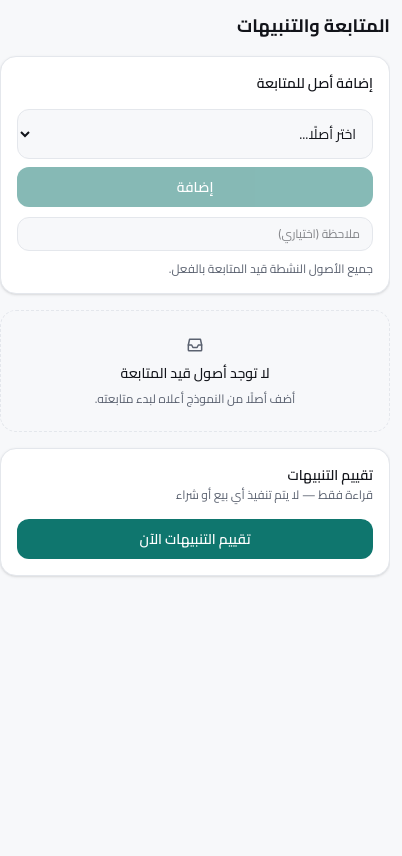
Test: WatchlistPage › displays alert evaluation results without executing any trade
This screenshot has width=402, height=856.
Click the button "تقييم التنبيهات الآن" at coordinates (195, 539), box [17,519,373,559]
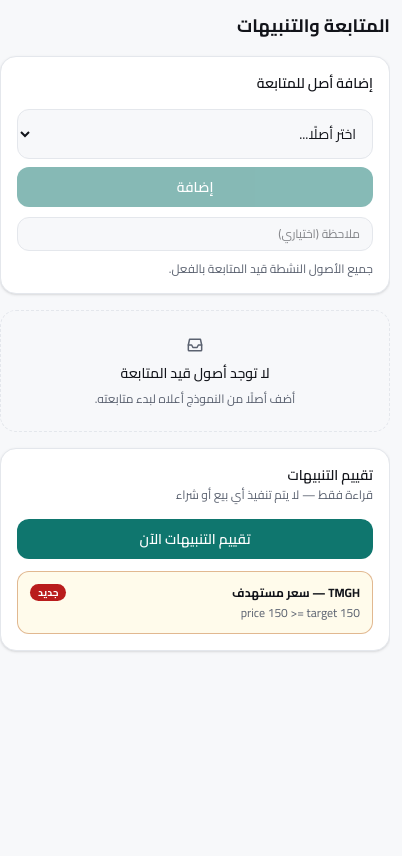
Expected: the text "TMGH — سعر مستهدف" is shown, [232,585,360,601]
Expected: the text "جديد" is shown, [30,584,66,601]
